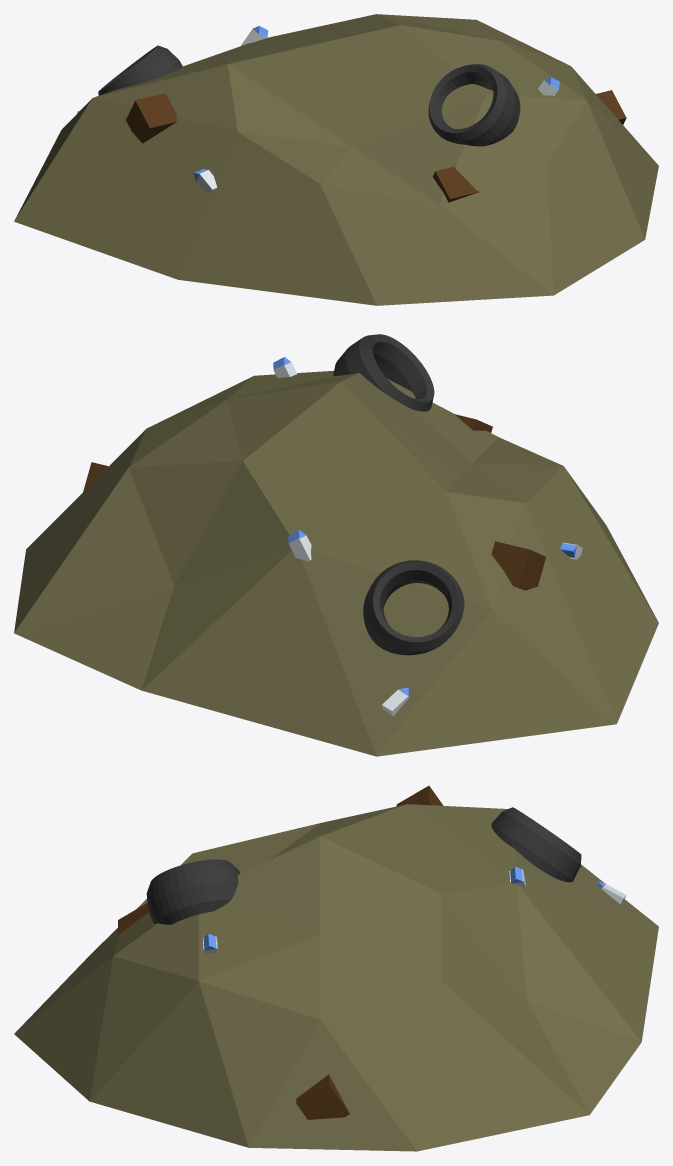
The model's file is Trash4.fbx.
The picture shows the model from 3 angles, top to bottom: view 1: azimuth 30°, elevation 25°; view 2: azimuth 150°, elevation 25°; view 3: azimuth 270°, elevation 25°; orthographic projection. The views are drawn at different scales.
Visible parts, largest first — view 1: Icosphere.001; view 2: Icosphere.001; view 3: Icosphere.001.
Boxes of the visible parts, box(x1,y1,x2,y2) form: Icosphere.001: box(14, 14, 658, 305); Icosphere.001: box(14, 334, 658, 756); Icosphere.001: box(14, 785, 658, 1151).
Size of the model in its own units: 3616 by 1087 by 3348.
